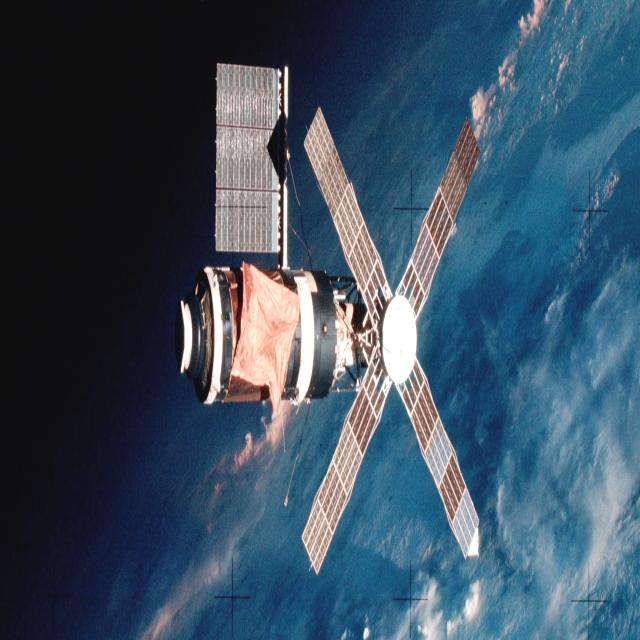satellite: (173, 60, 487, 581)
